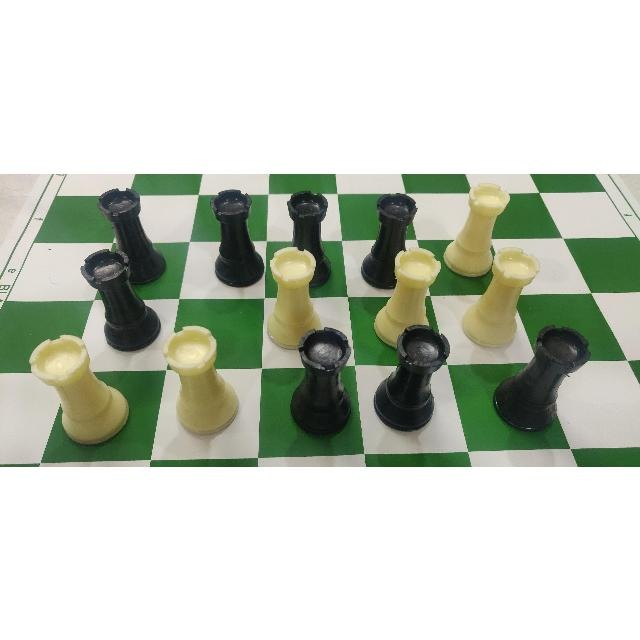black-rook: (494, 319, 594, 437), (78, 245, 162, 347), (374, 325, 451, 435), (287, 323, 353, 438), (94, 185, 169, 281), (359, 190, 419, 286), (210, 185, 260, 288), (287, 186, 337, 281)
white-rook: (25, 332, 129, 444), (160, 324, 239, 441), (475, 243, 543, 341), (454, 178, 510, 263), (266, 243, 322, 324), (385, 245, 442, 324)
